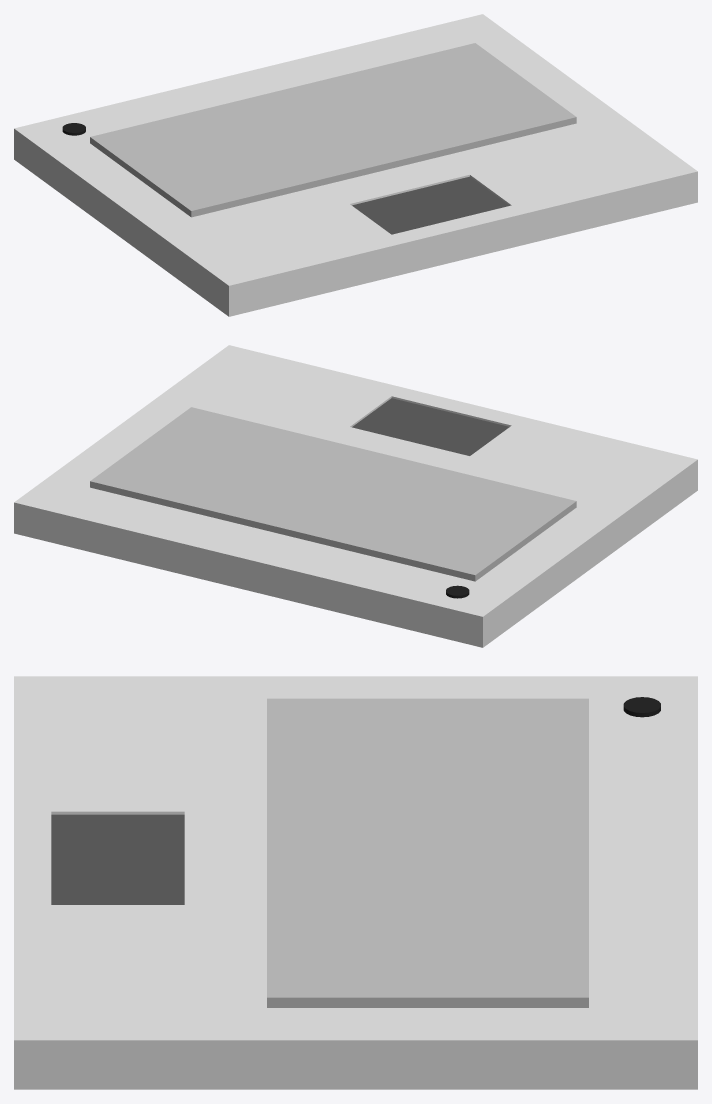
File: Itr_Obj_Laptop_Board_04.FBX
3 renders of one model, top to bottom at view 1: azimuth 30°, elevation 25°; view 2: azimuth 150°, elevation 25°; view 3: azimuth 270°, elevation 25°, orthographic. The views are drawn at different scales.
Visible parts, largest first — view 1: Itr_Obj_Laptop_Board_04; view 2: Itr_Obj_Laptop_Board_04; view 3: Itr_Obj_Laptop_Board_04.
Part boxes in pixels (x1,y1,x2,y2): Itr_Obj_Laptop_Board_04: [14, 14, 697, 316]; Itr_Obj_Laptop_Board_04: [14, 345, 697, 647]; Itr_Obj_Laptop_Board_04: [14, 676, 697, 1089].
Bounding box in the file's own units: 29.1 × 2.22 × 23.12.
